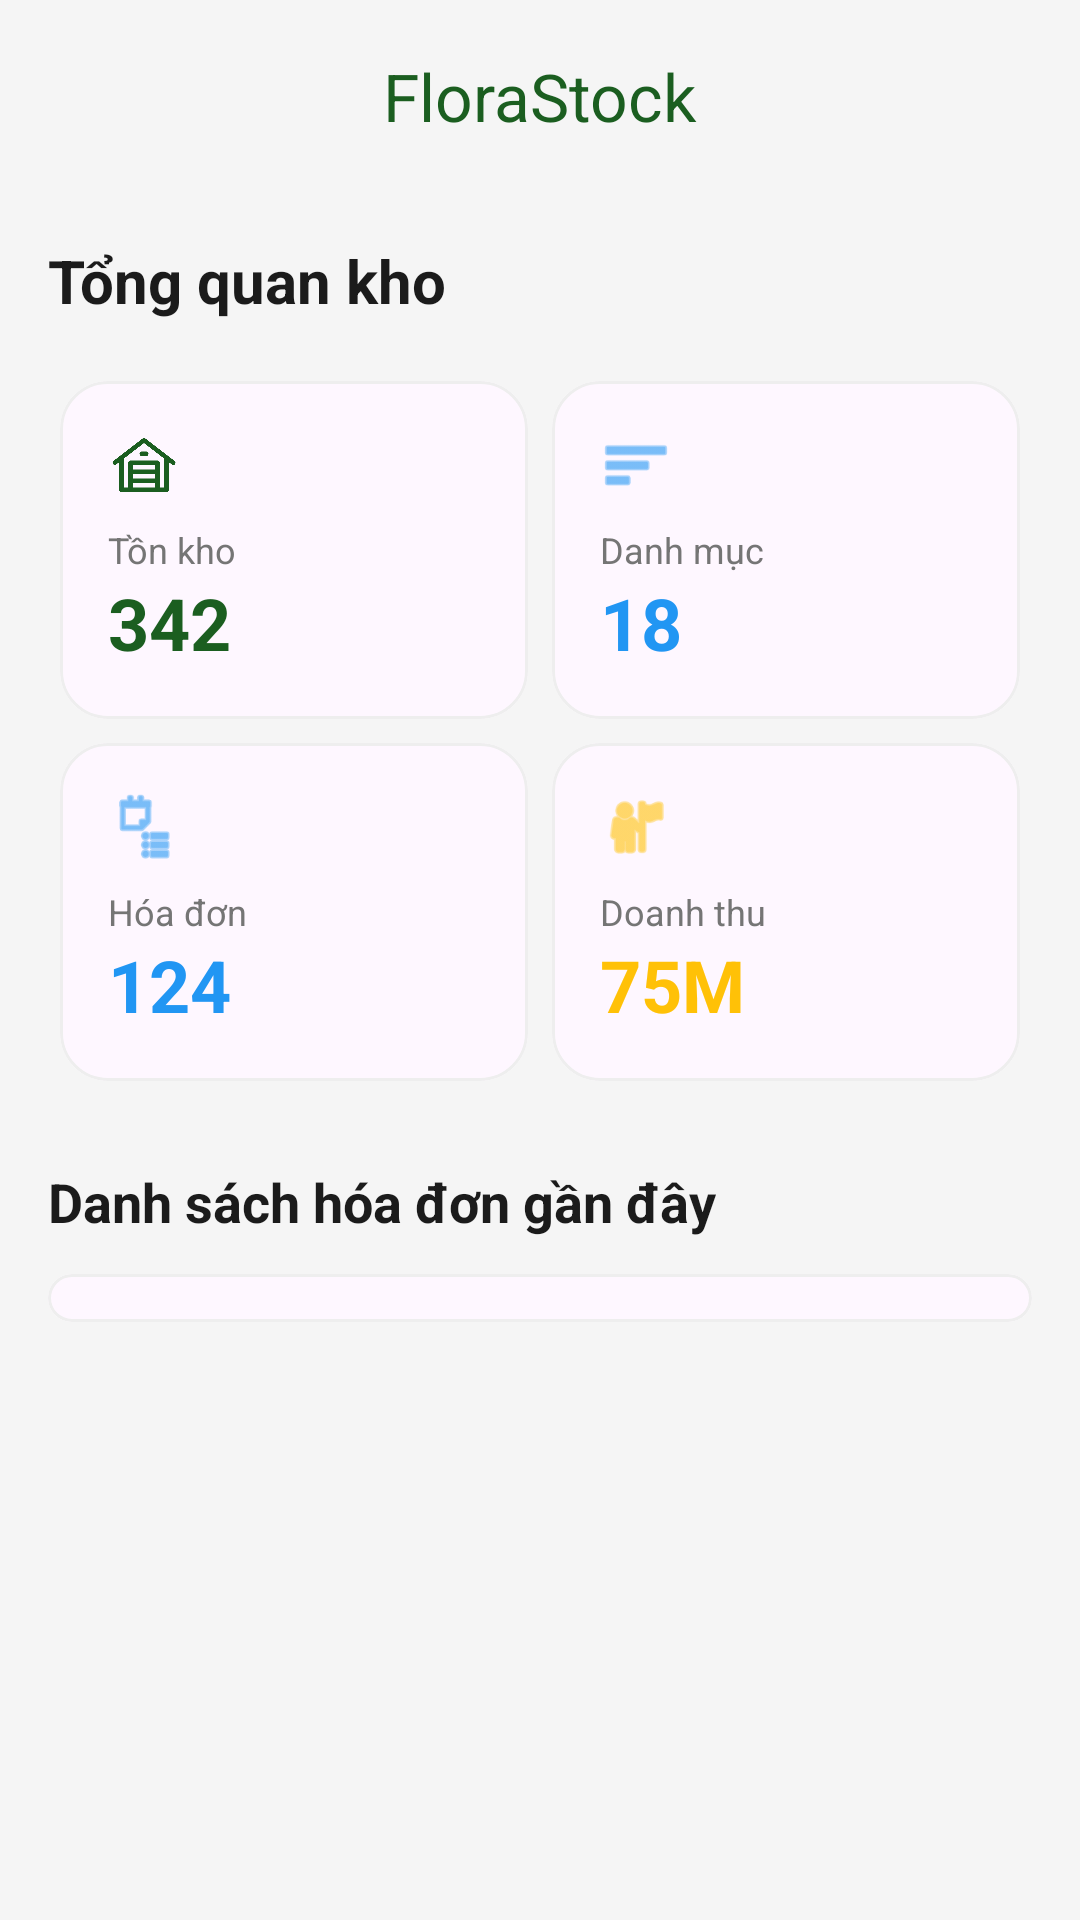

Where to tap for icons on this 1080w x 1920h app screen, as [x,y]:
agenda: [144,827]
sort by size: [636,465]
warehouse: [144,465]
